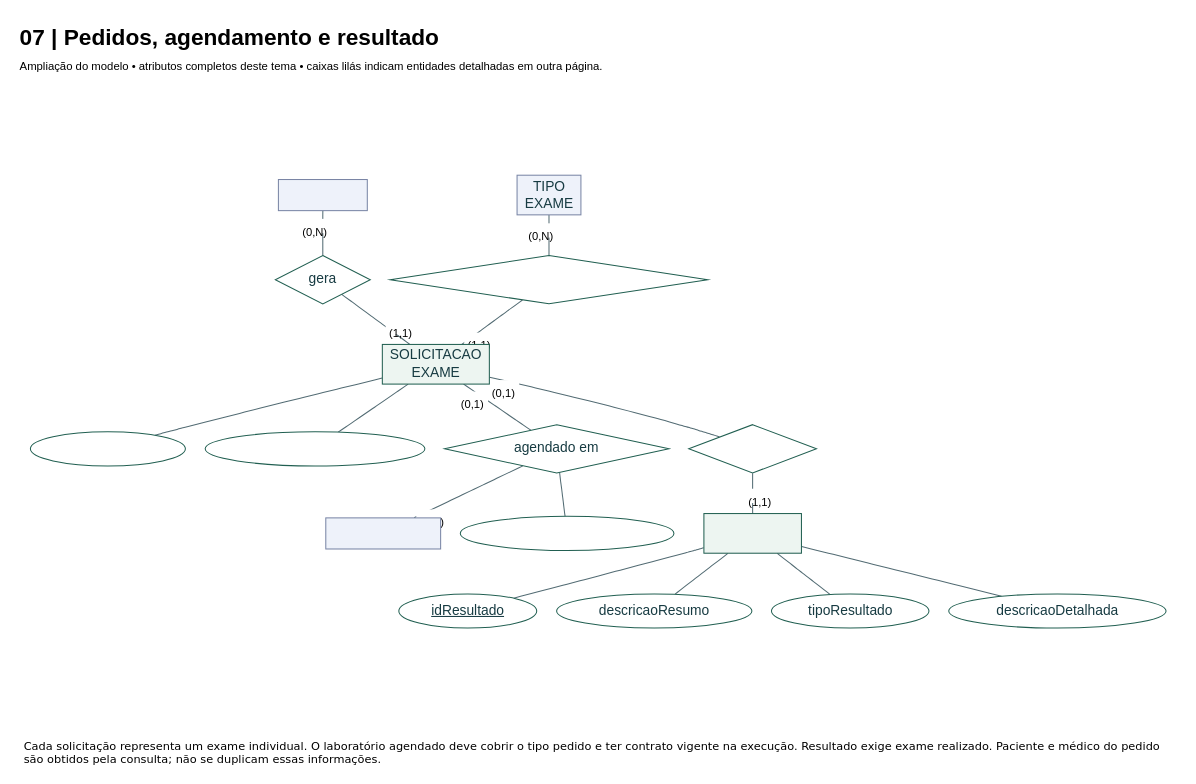
Some shapes in this 1196 by 784 pixel diagram are drawn without their labels. Each missing label, with the centre of its shape:
"CONSULTA" goes at pixel 322 194.
"dataHoraAgendada" goes at pixel 566 533.
"dataHoraSolicitacao" goes at pixel 314 448.
"idSolicExame" goes at pixel 107 448.
"LABORATORIO" goes at pixel 383 533.
"produz" goes at pixel 752 448.
"RESULTADO EXAME" goes at pixel 752 533.
"é requerido em" goes at pixel 548 279.
